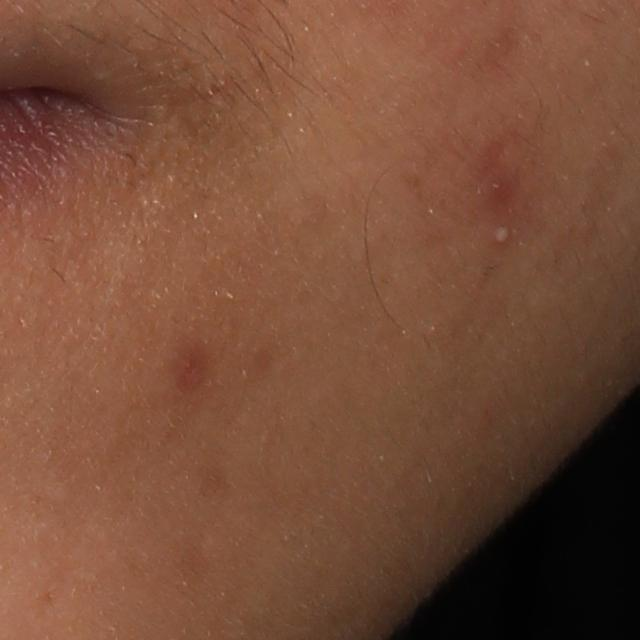pustule: (483, 217, 516, 253)
